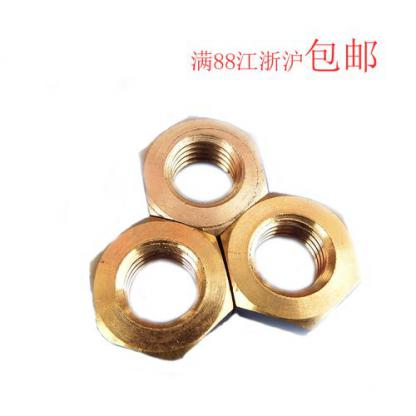FOD: (84, 217, 236, 364), (216, 191, 364, 337), (136, 114, 270, 237)
